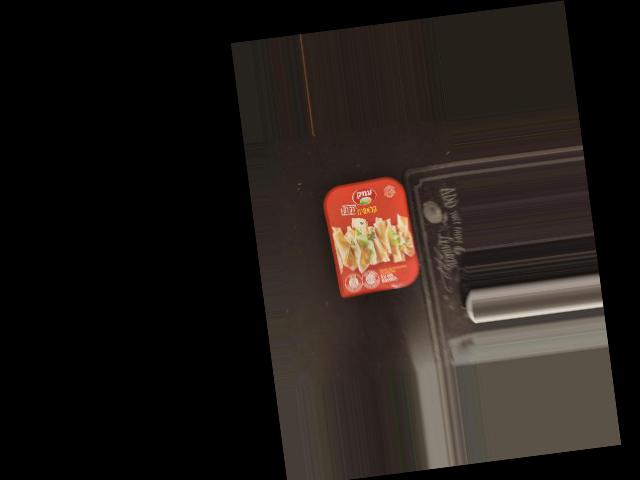cheese: (326, 174, 421, 296)
